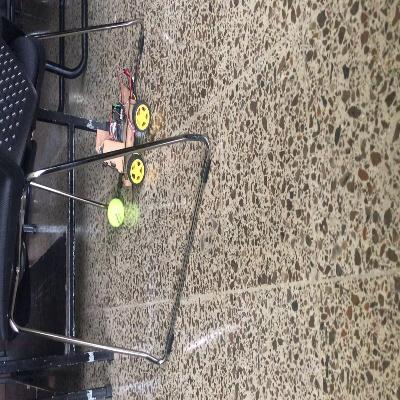Ball: (108, 198, 124, 227)
Robot: (95, 84, 151, 185)
